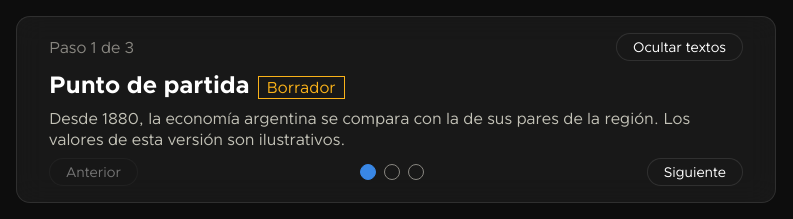
Test: StoryCaption › Next advances the step through the store and the live region announces the new title
The image size is (793, 219).
Click the button "Siguiente": (695, 172) [647, 158, 743, 186]
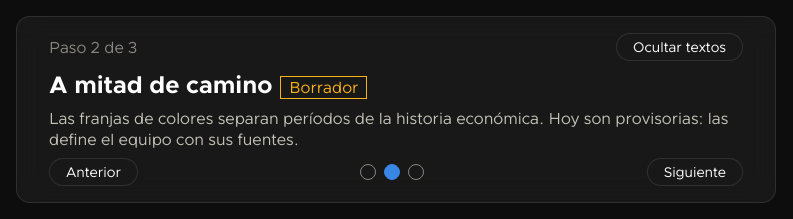
expect the text "Paso 2 de 3" is shown: met, box [49, 36, 137, 58]
